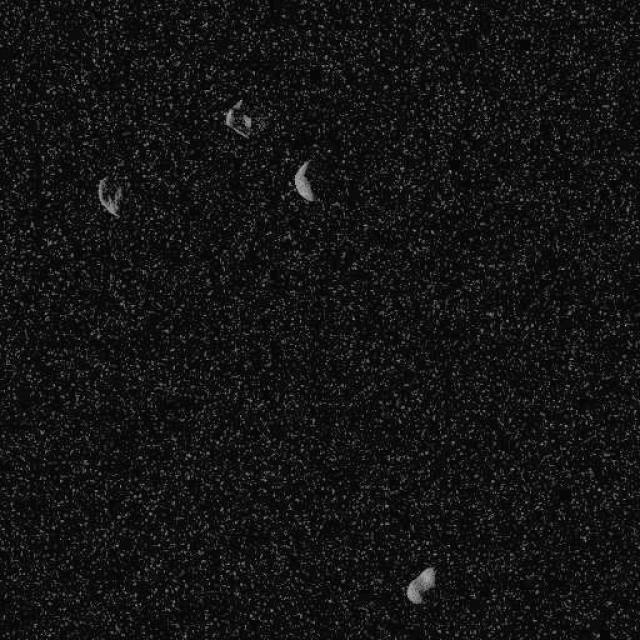D2: (96, 172, 128, 218), (405, 565, 436, 604), (222, 98, 252, 138), (292, 158, 318, 202)
